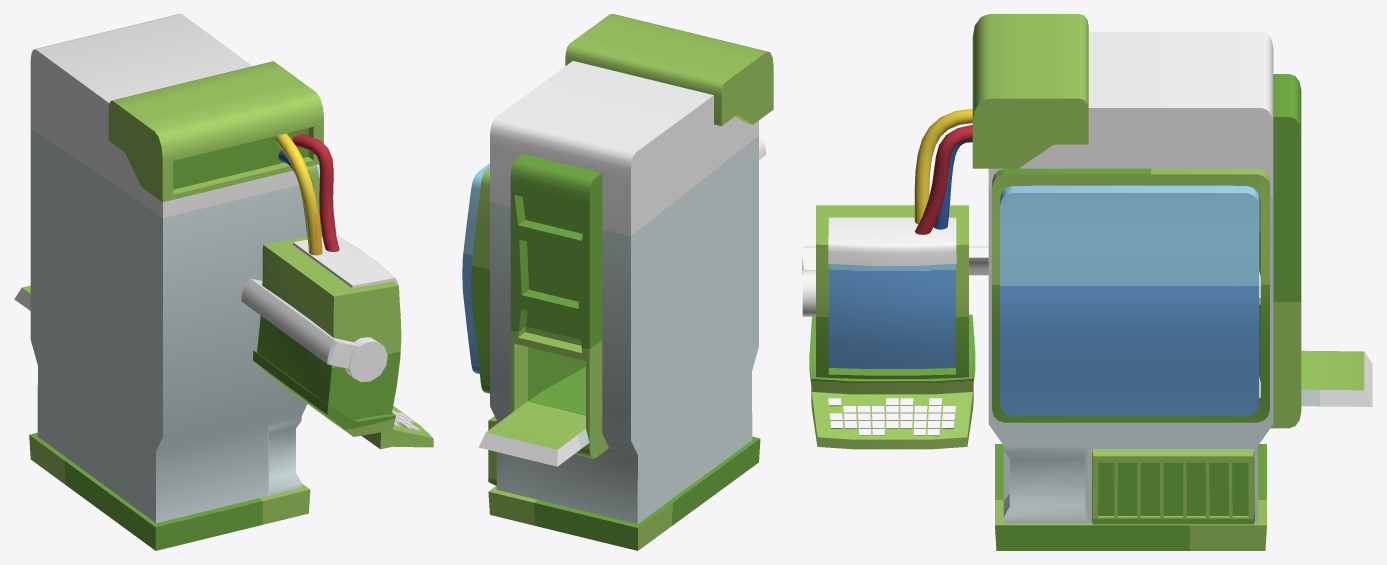
The model's file is maquinaMemoria.fbx.
The picture shows the model from 3 angles, left to right: view 1: azimuth 30°, elevation 25°; view 2: azimuth 150°, elevation 25°; view 3: azimuth 270°, elevation 25°; orthographic projection. The views are drawn at different scales.
Visible parts, largest first — view 1: maquinaMemoria; view 2: maquinaMemoria; view 3: maquinaMemoria.
Part boxes in pixels (x1,y1,x2,y2): maquinaMemoria: [14, 14, 433, 550]; maquinaMemoria: [462, 14, 773, 550]; maquinaMemoria: [802, 14, 1372, 550].
Size of the model in its own units: 211 by 421 by 479.
